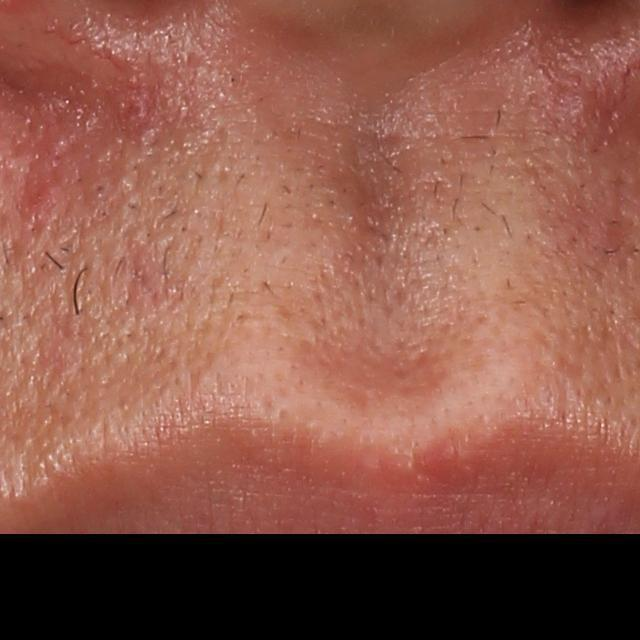comedo: (85, 179, 115, 200)
